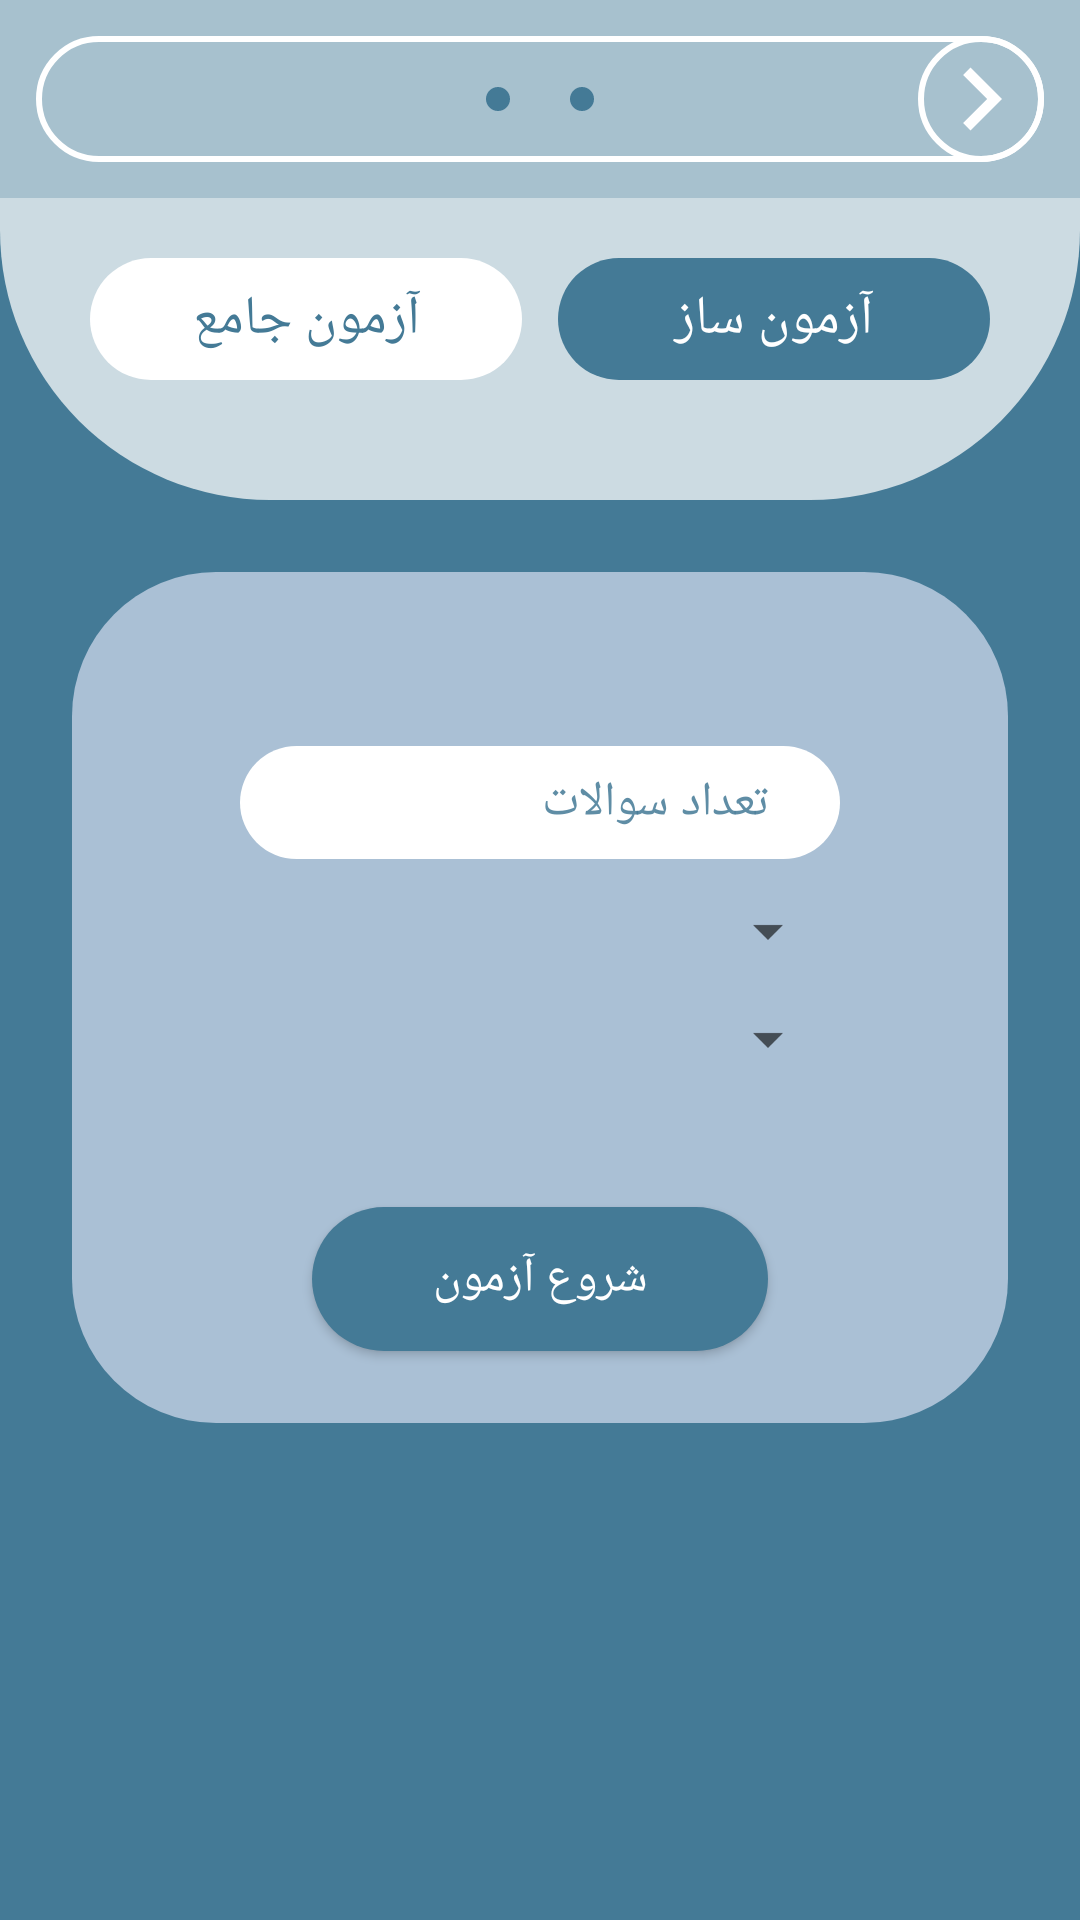

Icon click points for this 1080×1920 phone screenshot, format (x,y):
right: (981,99)
